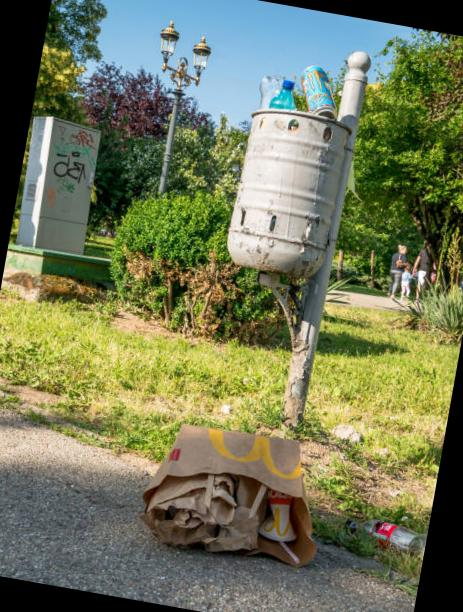trash: (125, 412, 329, 569), (248, 52, 348, 127), (344, 508, 428, 568)
trash_can_overflow: (129, 12, 401, 560)
